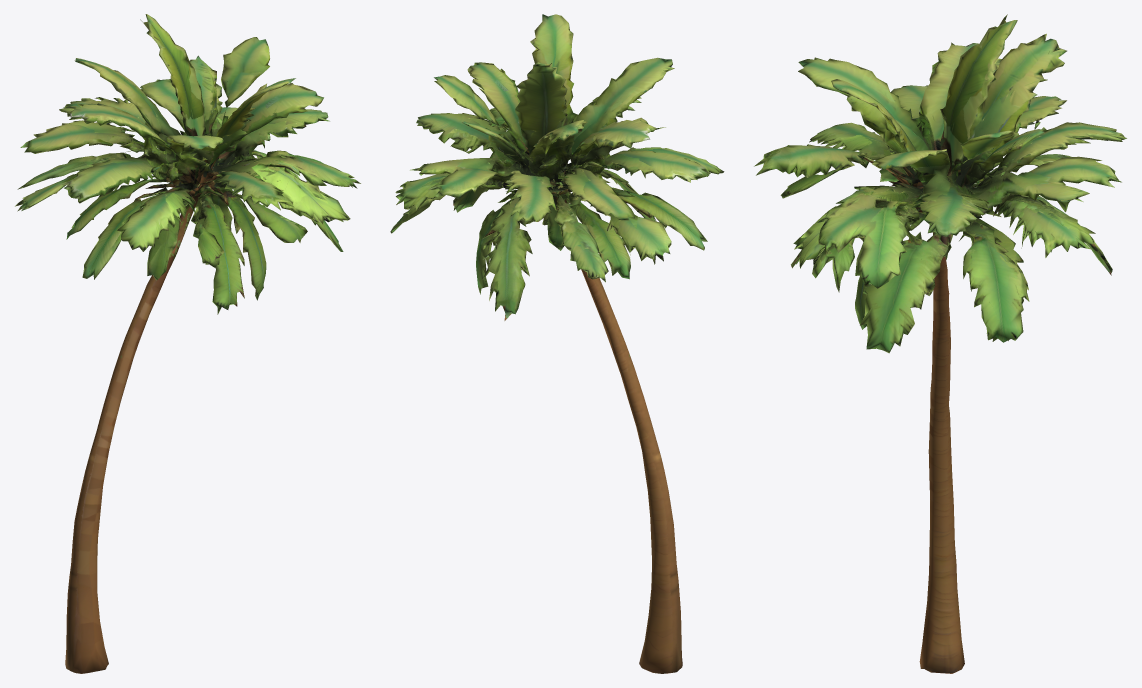
File: palm_tree.glb
3 views of the same model, side by side, from view 1: azimuth 30°, elevation 25°; view 2: azimuth 150°, elevation 25°; view 3: azimuth 270°, elevation 25° (orthographic). The views are drawn at different scales.
Bounding box in the file's own units: 0.971 × 2.01 × 0.9768.
Materials: 1 (1 with a texture image).
